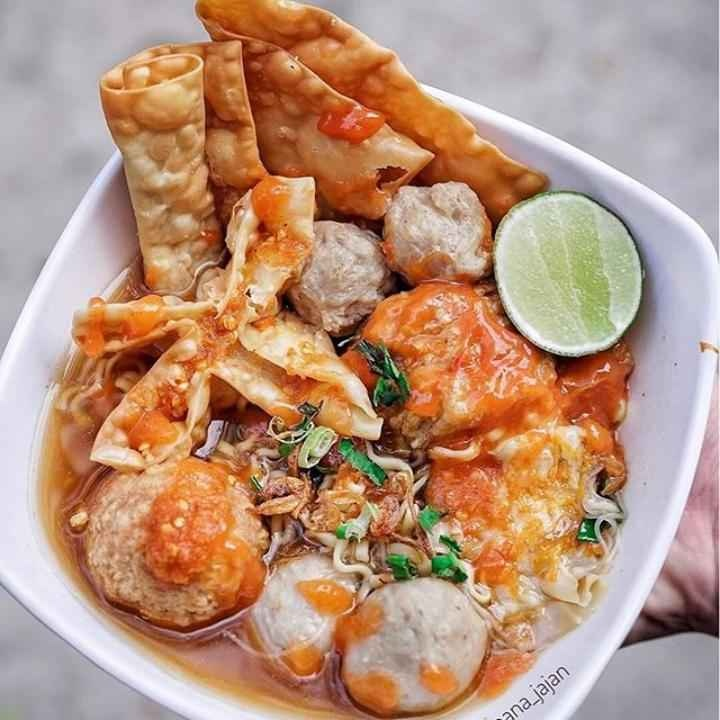bakso_malang: (41, 1, 646, 720)
